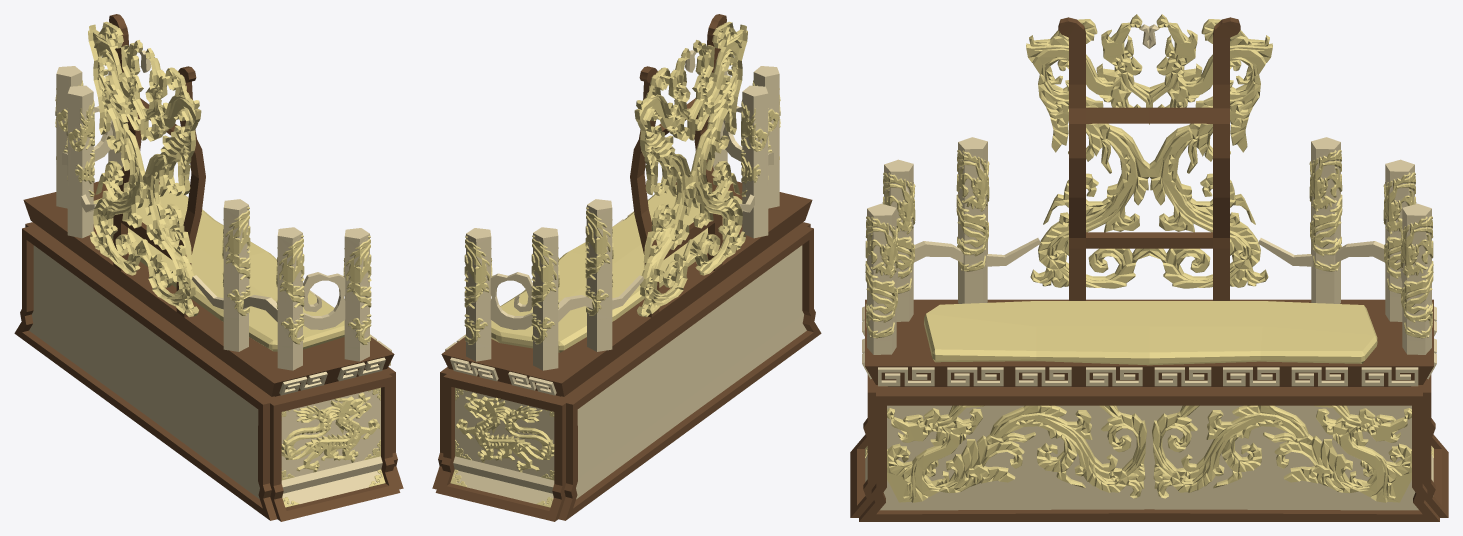
3 views of the same model, side by side, from view 1: azimuth 30°, elevation 25°; view 2: azimuth 150°, elevation 25°; view 3: azimuth 270°, elevation 25° (orthographic). The views are drawn at different scales.
Visible parts, largest first — view 1: polySurface4947; view 2: polySurface4947; view 3: polySurface4947.
Part boxes in pixels (x1,y1,x2,y2): polySurface4947: [14, 14, 403, 521]; polySurface4947: [432, 14, 821, 521]; polySurface4947: [850, 14, 1448, 521].
Bounding box in the file's own units: 56.15 × 154 × 192.
